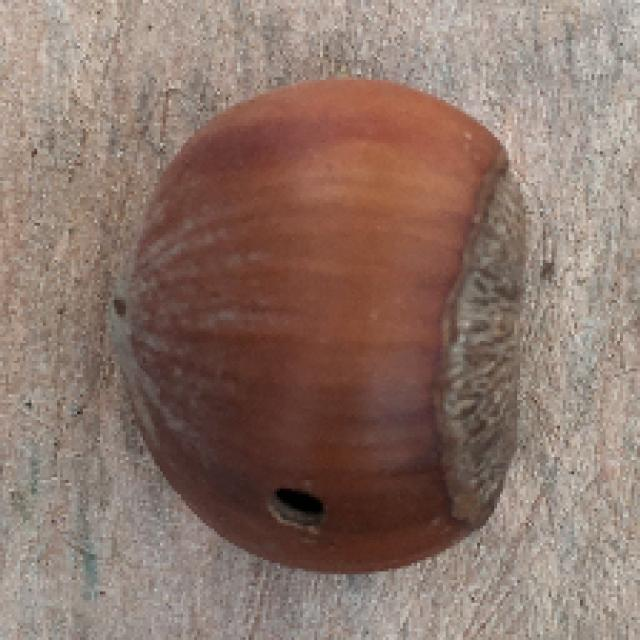damagedHazelnut: (105, 77, 544, 578)
